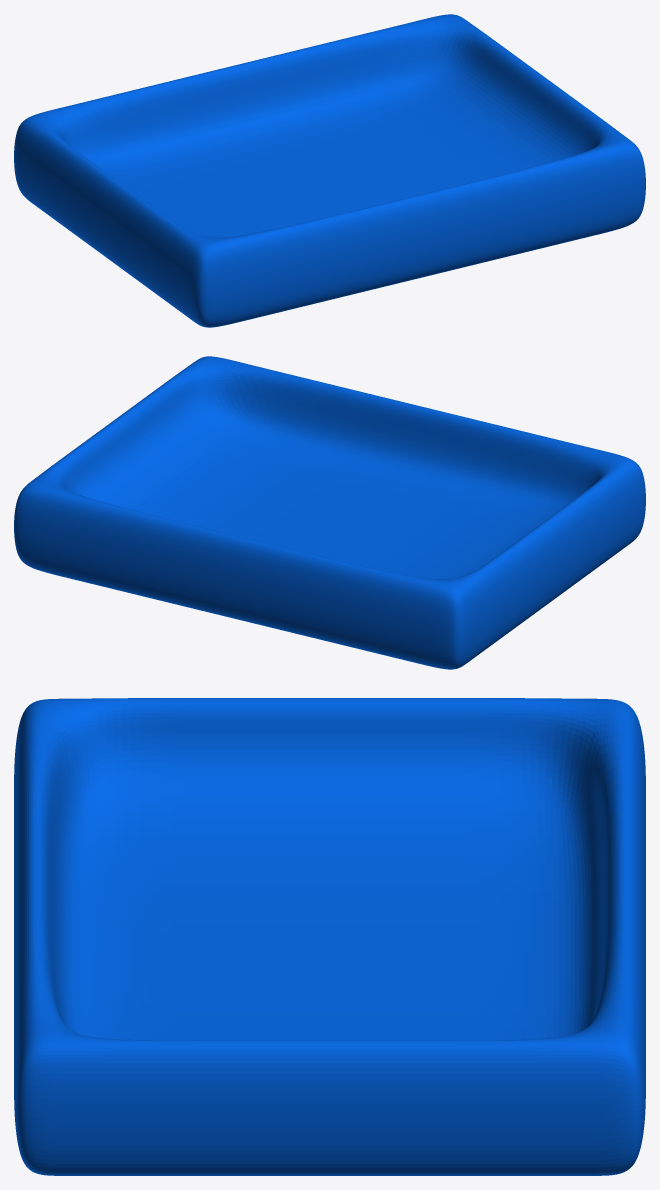
File: Pool.fbx
3 views of the same model, one above another, from view 1: azimuth 30°, elevation 25°; view 2: azimuth 150°, elevation 25°; view 3: azimuth 270°, elevation 25° (orthographic). The views are drawn at different scales.
Visible parts, largest first — view 1: Cube; view 2: Cube; view 3: Cube.
Boxes of the visible parts, x1=… form: Cube: x1=14, y1=14, x2=645, y2=327; Cube: x1=14, y1=356, x2=645, y2=669; Cube: x1=14, y1=698, x2=645, y2=1175.
Bounding box in the file's own units: 1234 × 225 × 910.
